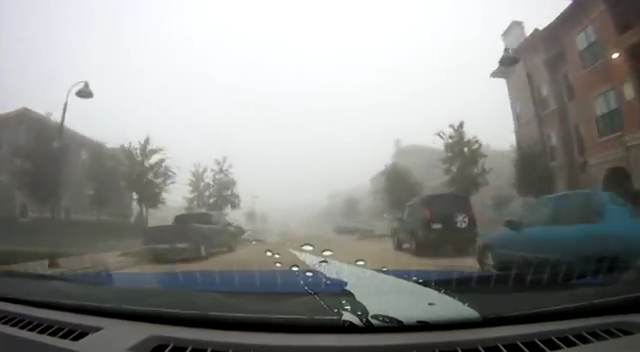car: (476, 190, 640, 277), (391, 193, 475, 255), (143, 212, 238, 262), (333, 219, 376, 237)
